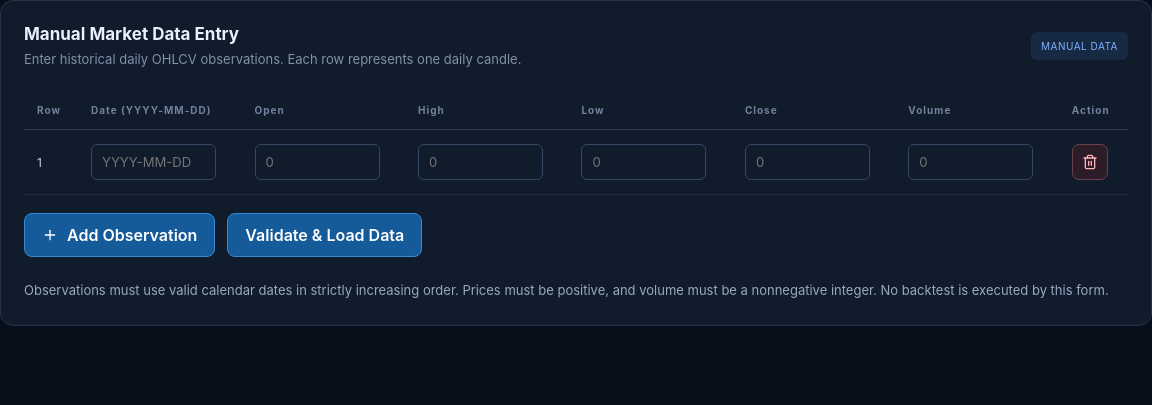
Test case: ManualDataEditor interactions › loads validated observations
This screenshot has width=1152, height=405.
Type "2026-01-05" into the field named "Date (YYYY-MM-DD) row 1".
click(154, 162); type("2026-01-05")  # box [91, 144, 216, 180]
Type "100" into the 1st field with placeholder "0".
click(317, 162); type("100")  # box [254, 144, 380, 180]
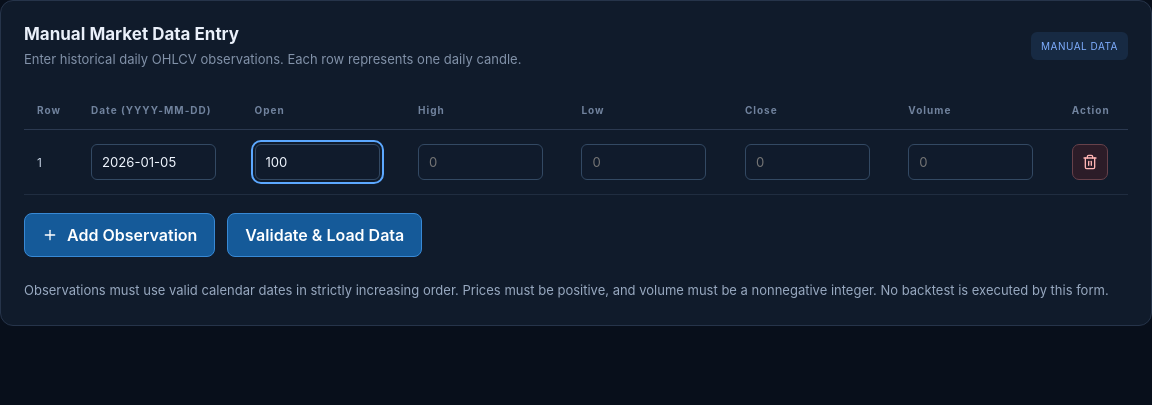
Type "105" into the 1st field with placeholder "0".
click(480, 162); type("105")  # box [418, 144, 543, 180]
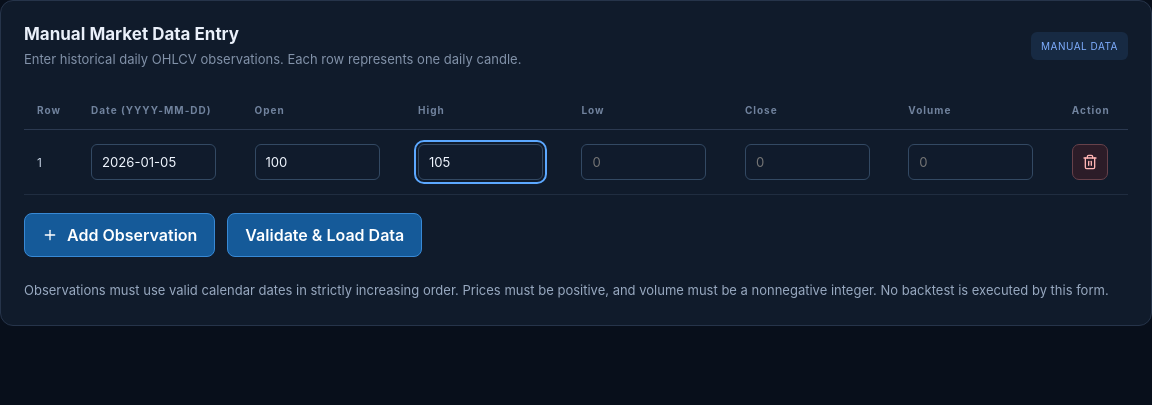
Type "98" into the 1st field with placeholder "0".
click(644, 162); type("98")  # box [581, 144, 706, 180]
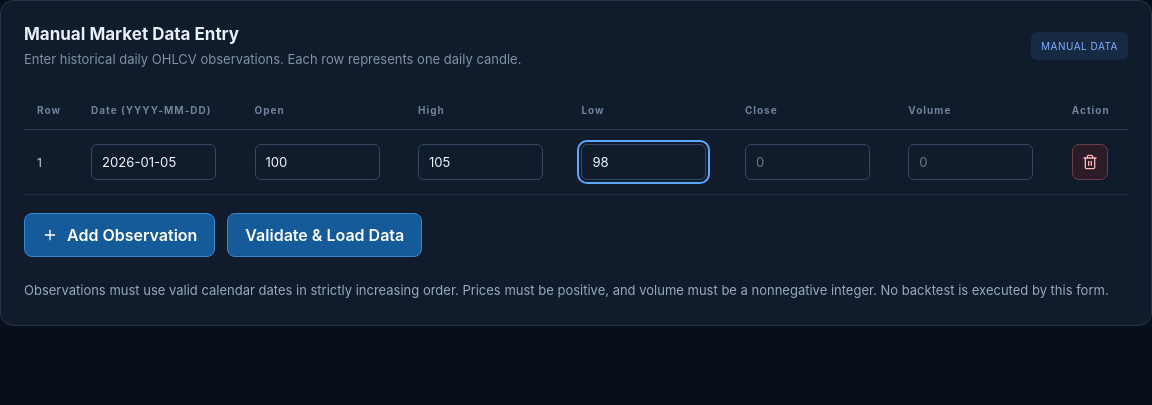
Type "103" into the field named "Close row 1".
click(807, 162); type("103")  # box [745, 144, 870, 180]
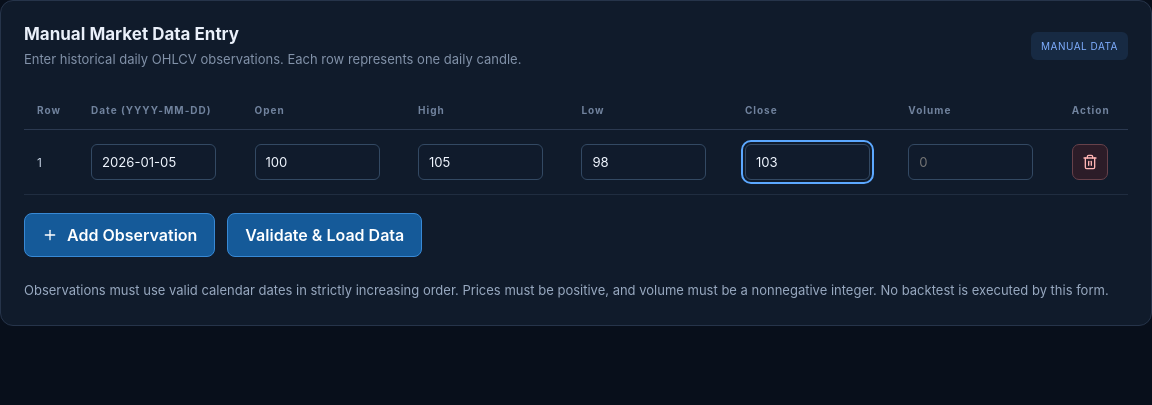
Type "1500000" into the field with placeholder "0".
click(971, 162); type("1500000")  # box [908, 144, 1033, 180]
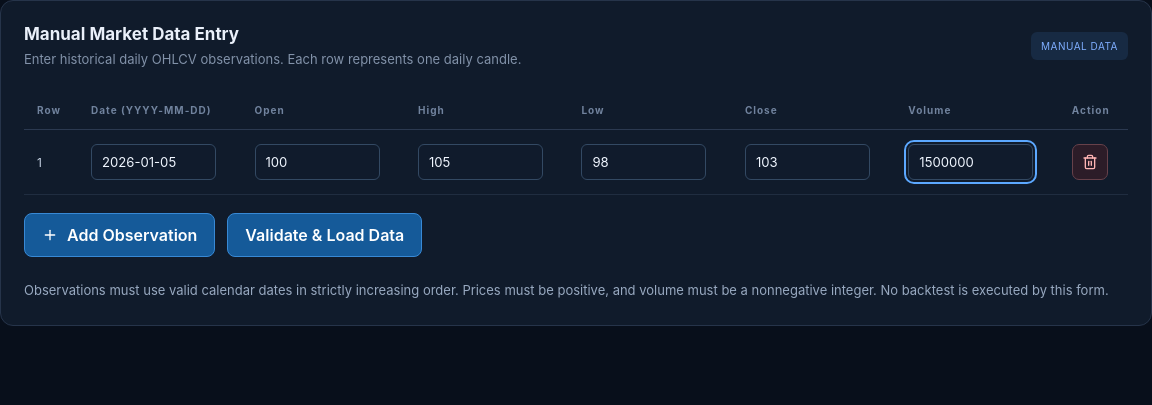
Click the button "Validate & Load Data".
click(325, 235)  # box [227, 213, 422, 257]
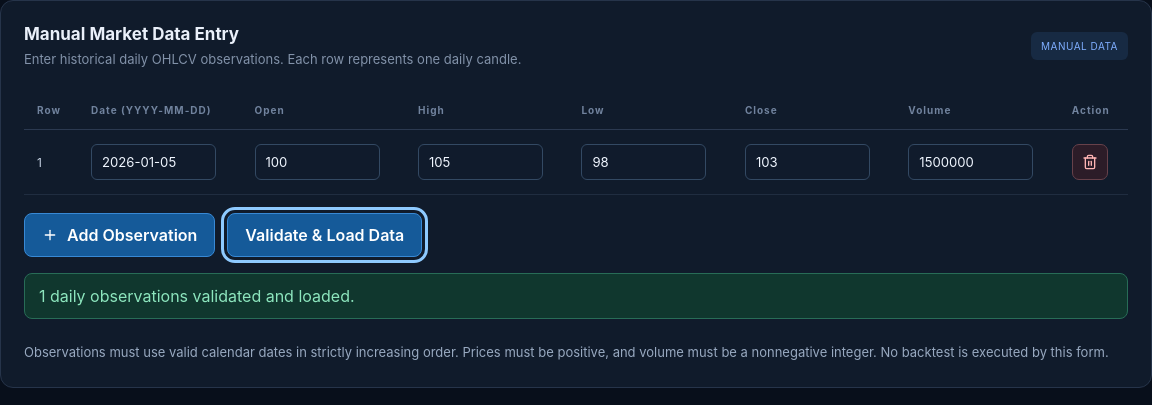
Expected: the message "1 daily observations validated and loaded." is shown, [24, 273, 1128, 319]
